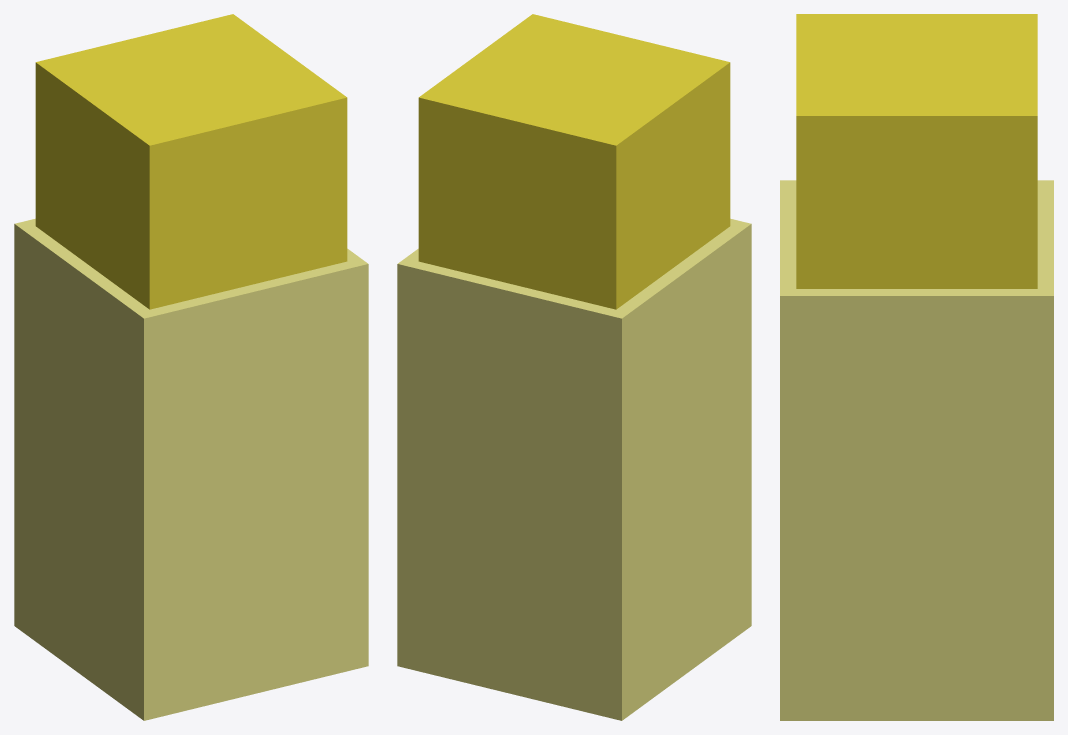
The model's file is bullet.fbx.
The picture shows the model from 3 angles, left to right: view 1: azimuth 30°, elevation 25°; view 2: azimuth 150°, elevation 25°; view 3: azimuth 270°, elevation 25°; orthographic projection. The views are drawn at different scales.
Parts seen in each view (by area): view 1: Cube, Cube.001; view 2: Cube, Cube.001; view 3: Cube, Cube.001.
Boxes of the visible parts, bbox=[...] form: Cube: bbox=[14, 218, 368, 720]; Cube.001: bbox=[35, 14, 347, 309]; Cube: bbox=[397, 218, 751, 720]; Cube.001: bbox=[418, 14, 730, 309]; Cube: bbox=[780, 180, 1053, 720]; Cube.001: bbox=[796, 14, 1037, 288].
Size of the model in its own units: 66.3 by 160 by 66.3.
